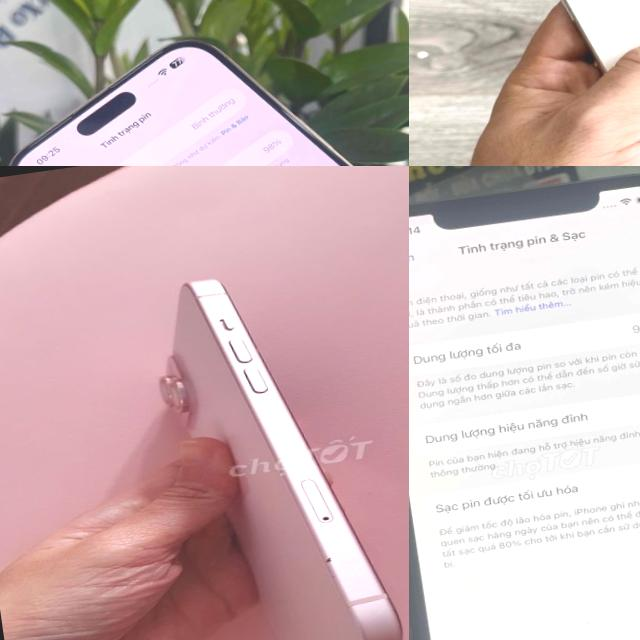gen_15: (125, 256, 409, 640)
gen_16: (13, 42, 353, 166)
gen_x_xs: (409, 166, 640, 640)
